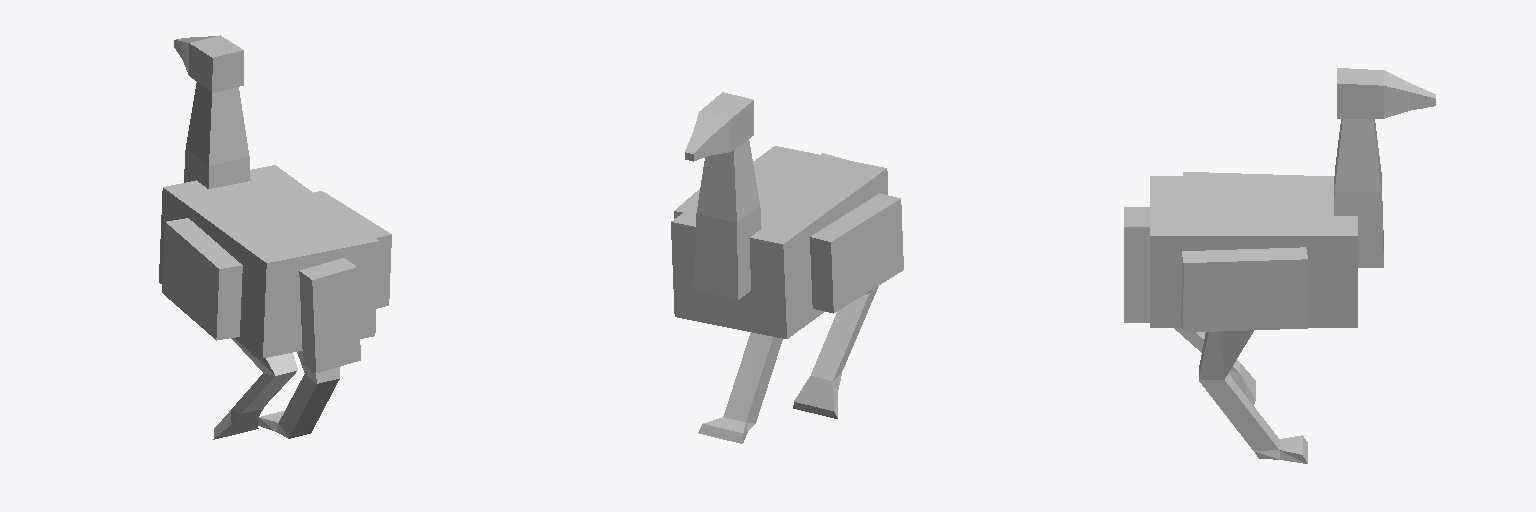
The model's file is Ostrich_000194.obj.
The picture shows the model from 3 angles: view 1: azimuth 30°, elevation 25°; view 2: azimuth 150°, elevation 25°; view 3: azimuth 270°, elevation 25°; orthographic projection.
Visible parts, largest first — view 1: Cube_Cube.001; view 2: Cube_Cube.001; view 3: Cube_Cube.001.
Boxes of the visible parts, box(x1,y1,x2,y2) form: Cube_Cube.001: box(159, 35, 391, 439); Cube_Cube.001: box(671, 92, 903, 443); Cube_Cube.001: box(1124, 68, 1435, 463).
Bounding box in the file's own units: 0.7796 × 1.53 × 1.2.